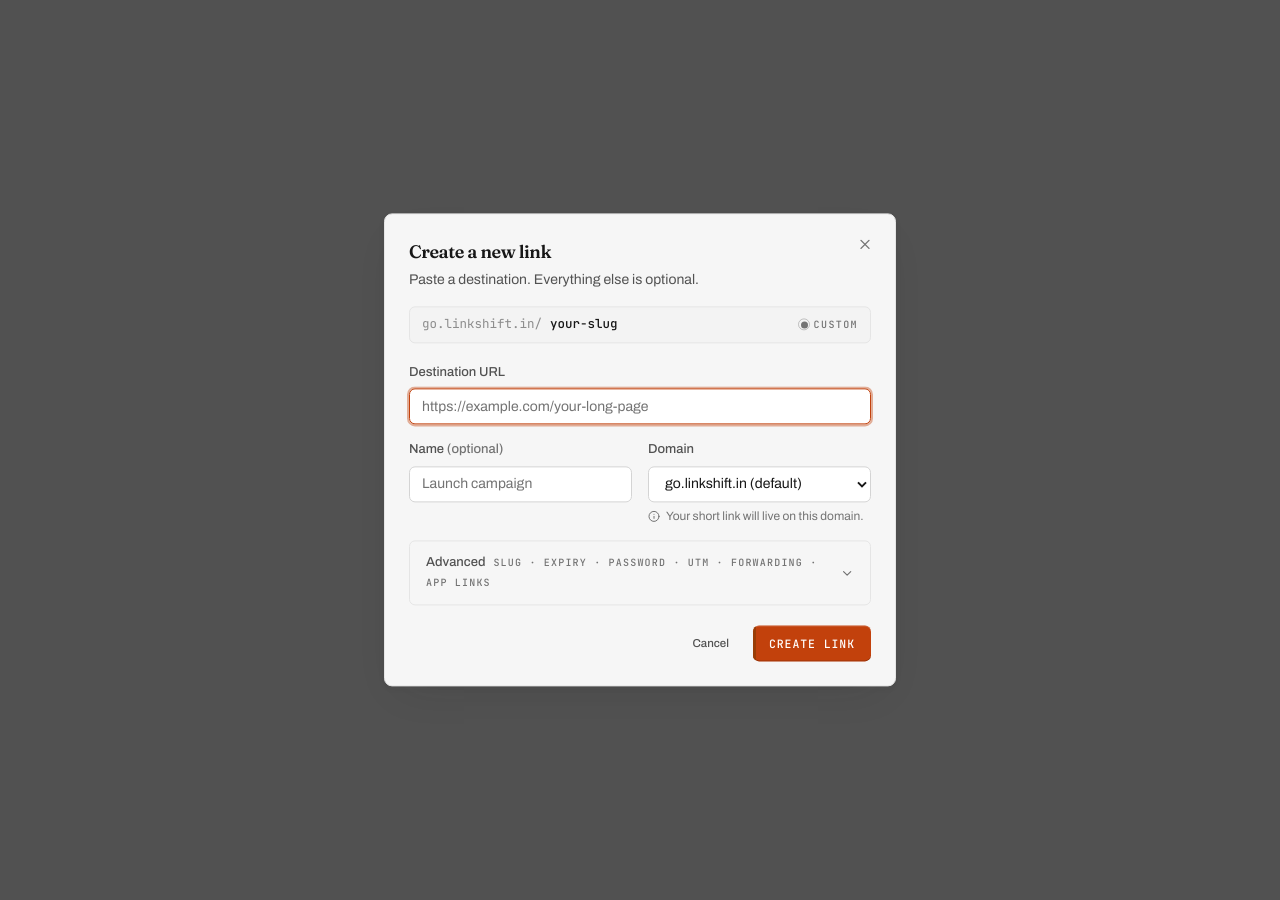
Test case: CreateLinkDialog path forwarding (Pro-gated) › CREATOR: shows an upgrade hint instead of the toggle
Expected: the dropdown labelled "Domain" shows "go.linkshift.in (default)", [648,466,871,502]
Step 1. Type "https://example.com/app" into the field labelled "Destination URL" → coordinates (640, 407), box [409,389,871,425]
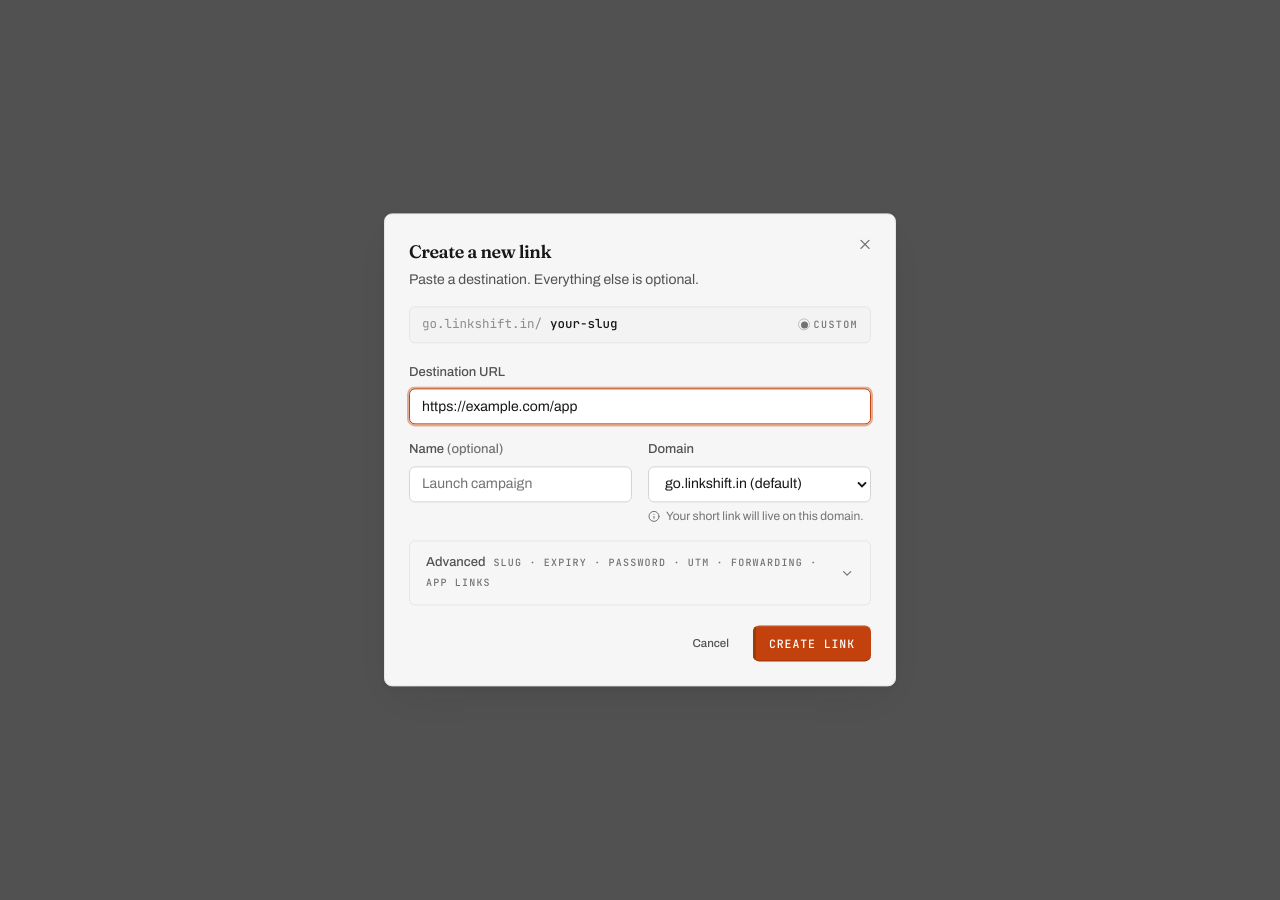
Step 2. Click the button "Advanced" → coordinates (456, 563), box [410,542,870,605]
(page scrolled)
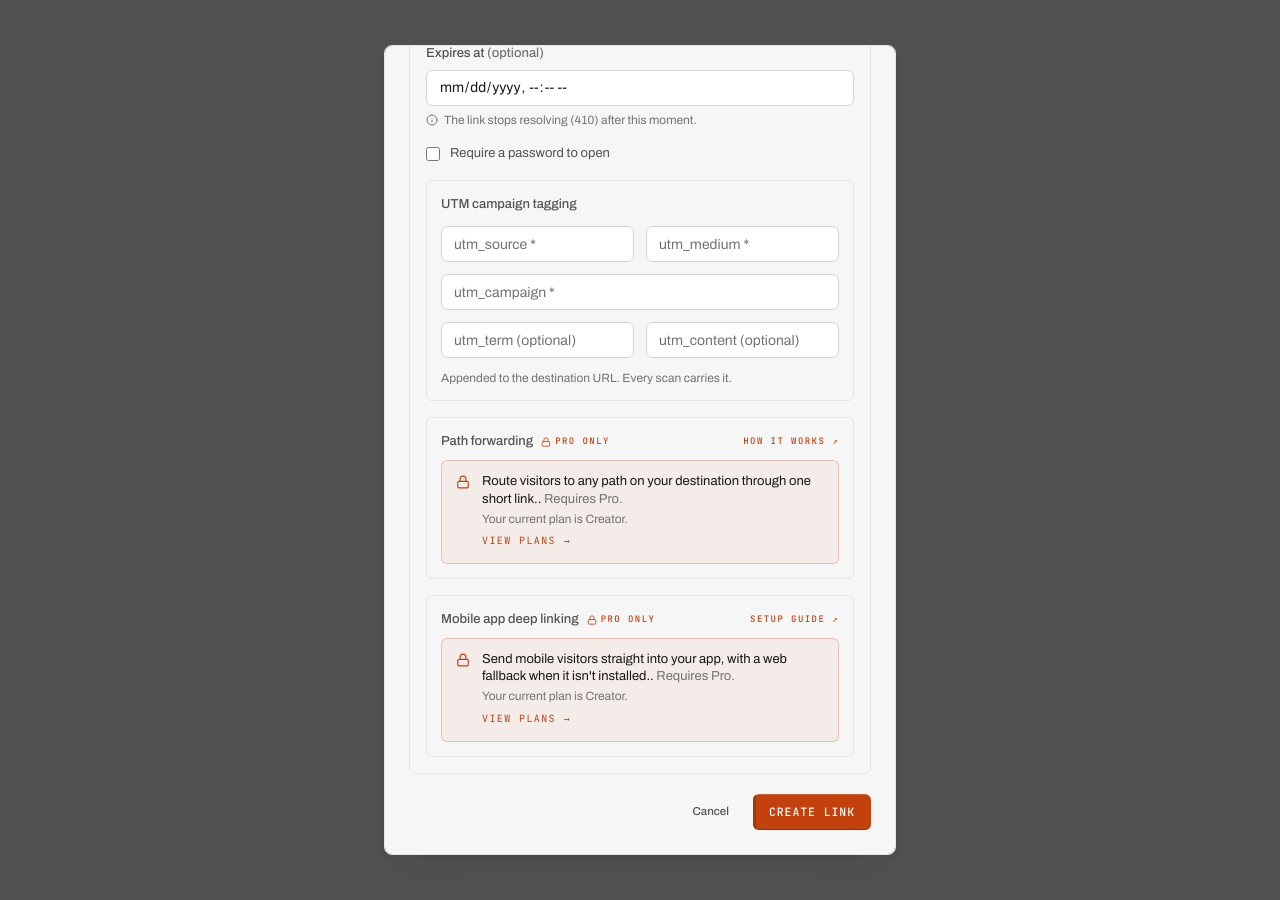
Expected: the text "Route visitors to any path on your destination" is shown, [482,474,811,506]
